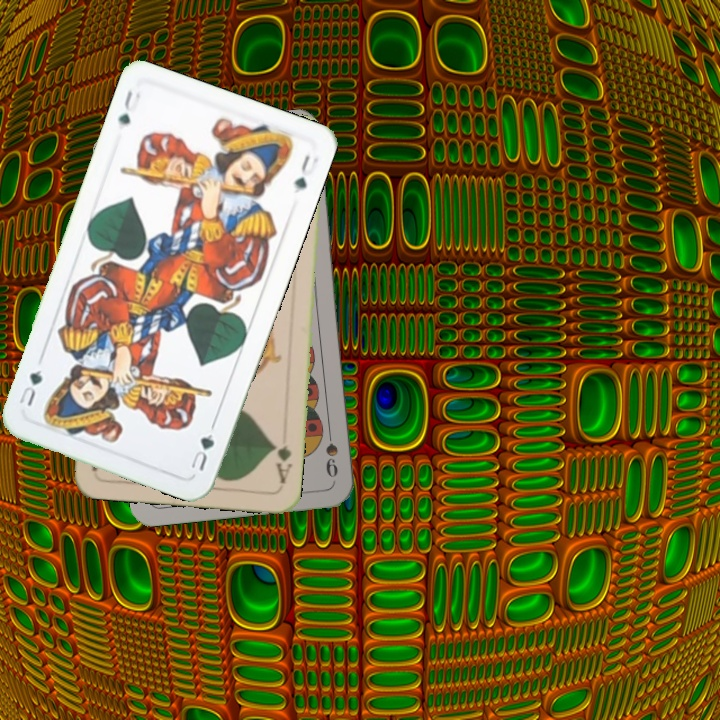GA: (269, 440, 295, 486)
GU: (187, 429, 217, 473), (114, 86, 143, 128)
S9: (321, 422, 341, 480)
